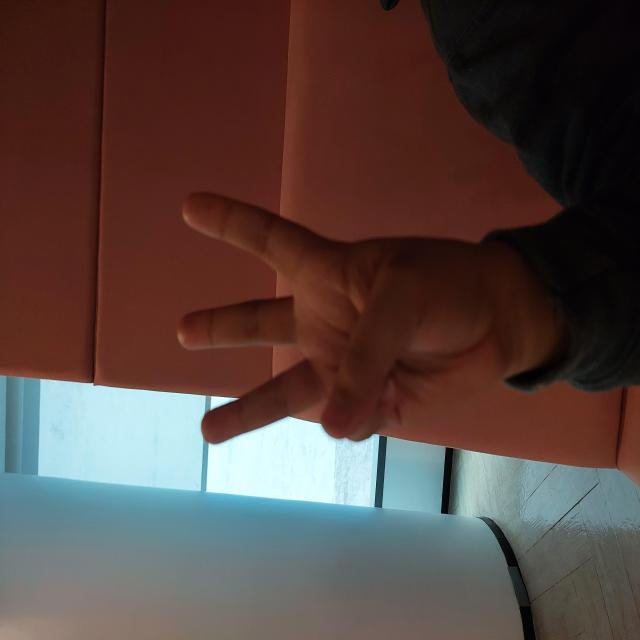W: (186, 170, 457, 516)
